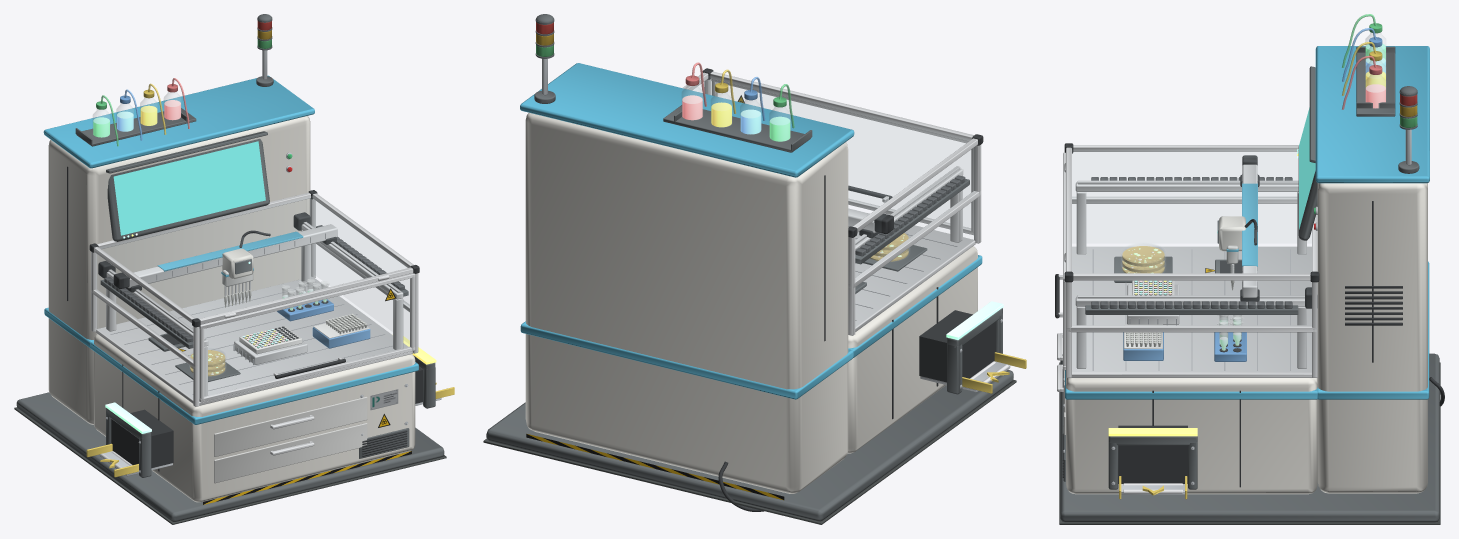
File: secuenciador.glb
The picture shows the model from 3 angles, left to right: view 1: azimuth 30°, elevation 25°; view 2: azimuth 150°, elevation 25°; view 3: azimuth 270°, elevation 25°; orthographic projection. The views are drawn at different scales.
Parts seen in each view (by area): view 1: modulo, armario, mesa, modulo_techo, pantalla, zocalo, cajon0, cajon1, franja_familia, pantalla_marco, boca_entrada1_hueco, puente_viga (+25 smaller); view 2: modulo, zocalo, modulo_techo, armario, mesa, boca_entrada1_hueco, modulo_franja, perfil_sup_x-0.93, zocalo_goma, balda_reactivos, perfil_med_y-0.79, perfil_sup_y-0.79 (+12 smaller); view 3: modulo, armario, mesa, zocalo, modulo_techo, boca_salida_hueco, franja_familia, perfil_med_y0.79, perfil_sup_y0.79, zocalo_goma, riel-1, perfil_med_y-0.79 (+28 smaller).
Part boxes in pixels (left/top/right/bottom): modulo: left=48, top=116, right=310, bottom=424; armario: left=94, top=334, right=415, bottom=502; mesa: left=96, top=276, right=413, bottom=405; modulo_techo: left=43, top=75, right=314, bottom=168; pantalla: left=113, top=141, right=265, bottom=235; zocalo: left=16, top=392, right=444, bottom=521; cajon0: left=214, top=396, right=367, bottom=456; cajon1: left=214, top=423, right=367, bottom=483; franja_familia: left=90, top=341, right=418, bottom=424; pantalla_marco: left=107, top=138, right=269, bottom=241; boca_entrada1_hueco: left=111, top=409, right=173, bottom=468; puente_viga: left=128, top=224, right=337, bottom=288; modulo: left=525, top=112, right=848, bottom=493; zocalo: left=486, top=370, right=1013, bottom=521; modulo_techo: left=520, top=63, right=854, bottom=177; armario: left=847, top=246, right=977, bottom=453; mesa: left=848, top=225, right=975, bottom=331; boca_entrada1_hueco: left=919, top=310, right=996, bottom=382; modulo_franja: left=520, top=321, right=853, bottom=399; perfil_sup_x-0.93: left=710, top=71, right=973, bottom=141; zocalo_goma: left=483, top=379, right=1016, bottom=524; balda_reactivos: left=663, top=105, right=810, bottom=152; perfil_med_y-0.79: left=848, top=191, right=981, bottom=288; perfil_sup_y-0.79: left=853, top=138, right=977, bottom=232; modulo: left=1317, top=183, right=1427, bottom=493; armario: left=1066, top=377, right=1317, bottom=494; mesa: left=1071, top=246, right=1311, bottom=377; zocalo: left=1060, top=353, right=1439, bottom=522; modulo_techo: left=1315, top=46, right=1429, bottom=183; boca_salida_hueco: left=1118, top=425, right=1187, bottom=483; franja_familia: left=1065, top=370, right=1317, bottom=399; perfil_med_y0.79: left=1066, top=325, right=1317, bottom=332; perfil_sup_y0.79: left=1073, top=273, right=1310, bottom=280; zocalo_goma: left=1059, top=362, right=1440, bottom=524; riel-1: left=1075, top=182, right=1298, bottom=191; perfil_med_y-0.79: left=1072, top=196, right=1297, bottom=203.
Bounding box in the file's own units: 2.44 × 2.42 × 2.01.
63 materials, 3 textured.
